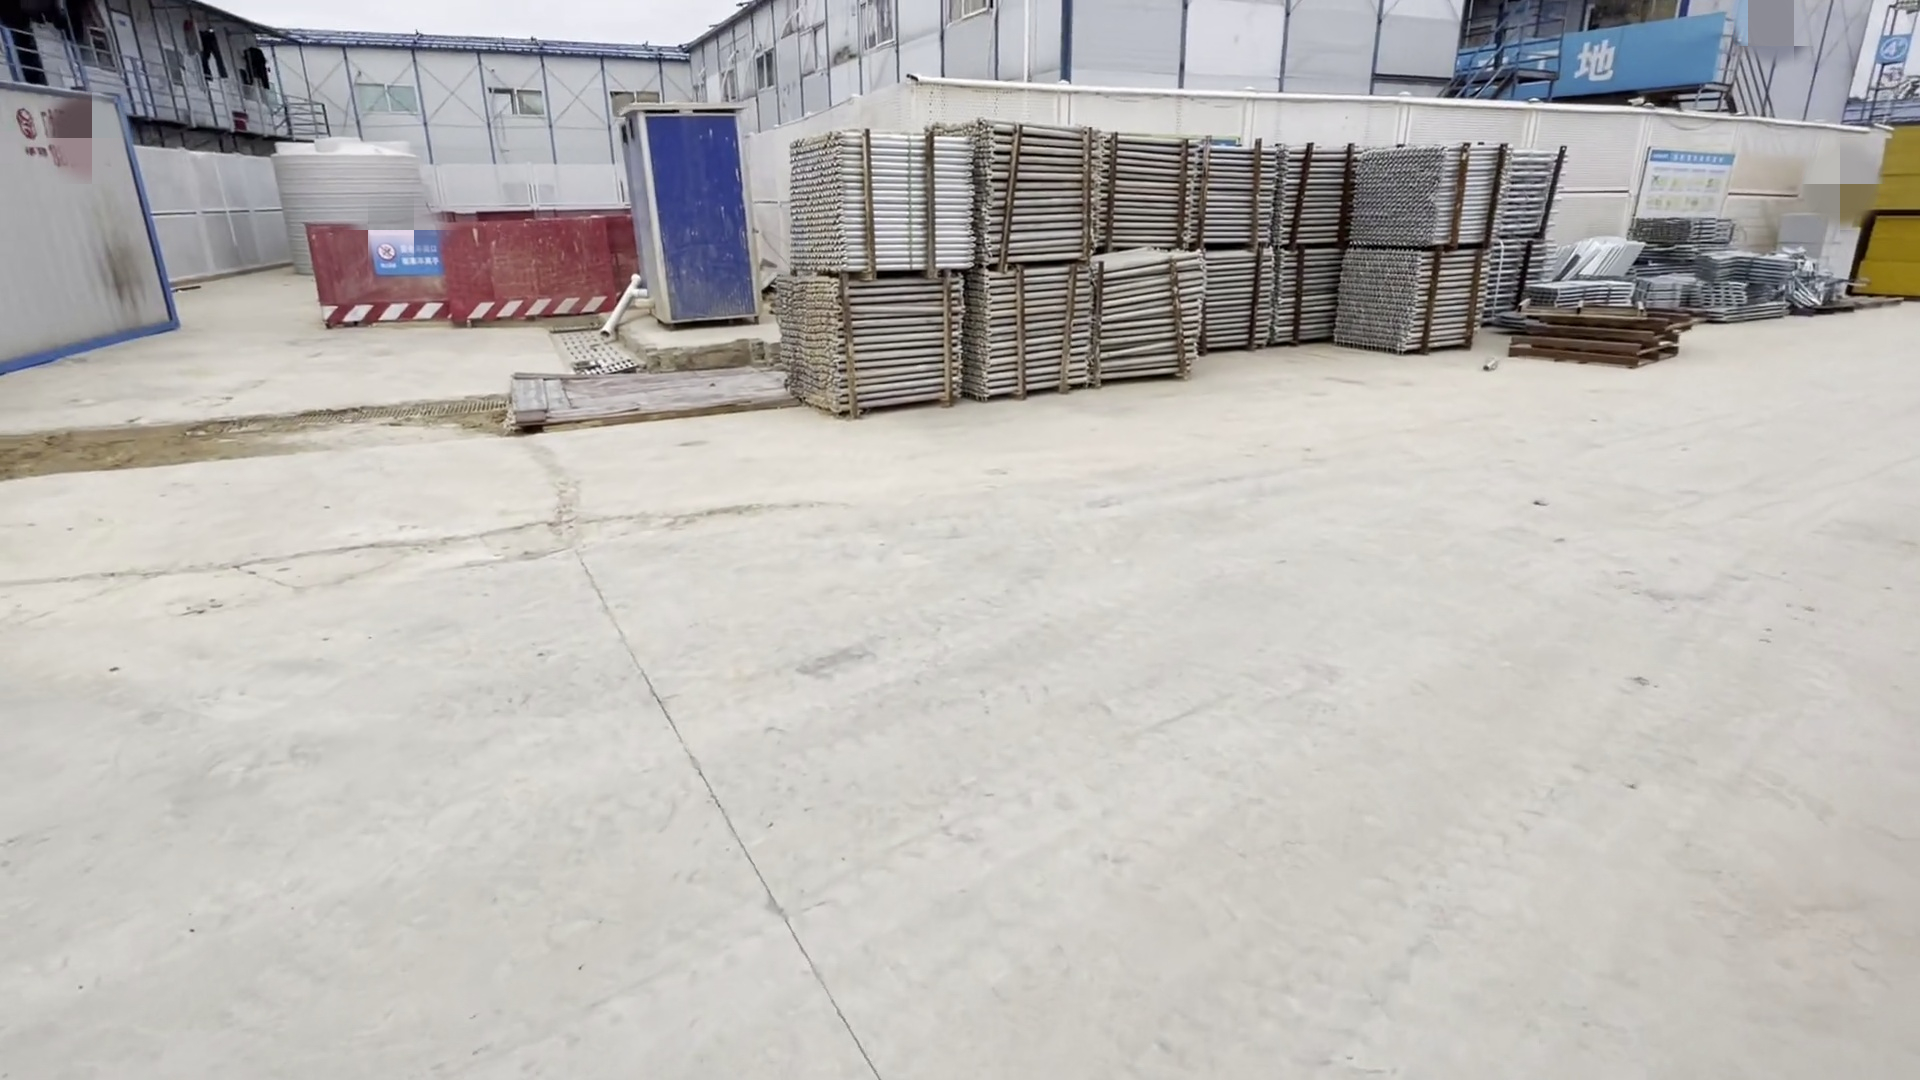fence: (293, 200, 647, 335)
scaffold: (804, 116, 1565, 415), (1565, 194, 1855, 344)
